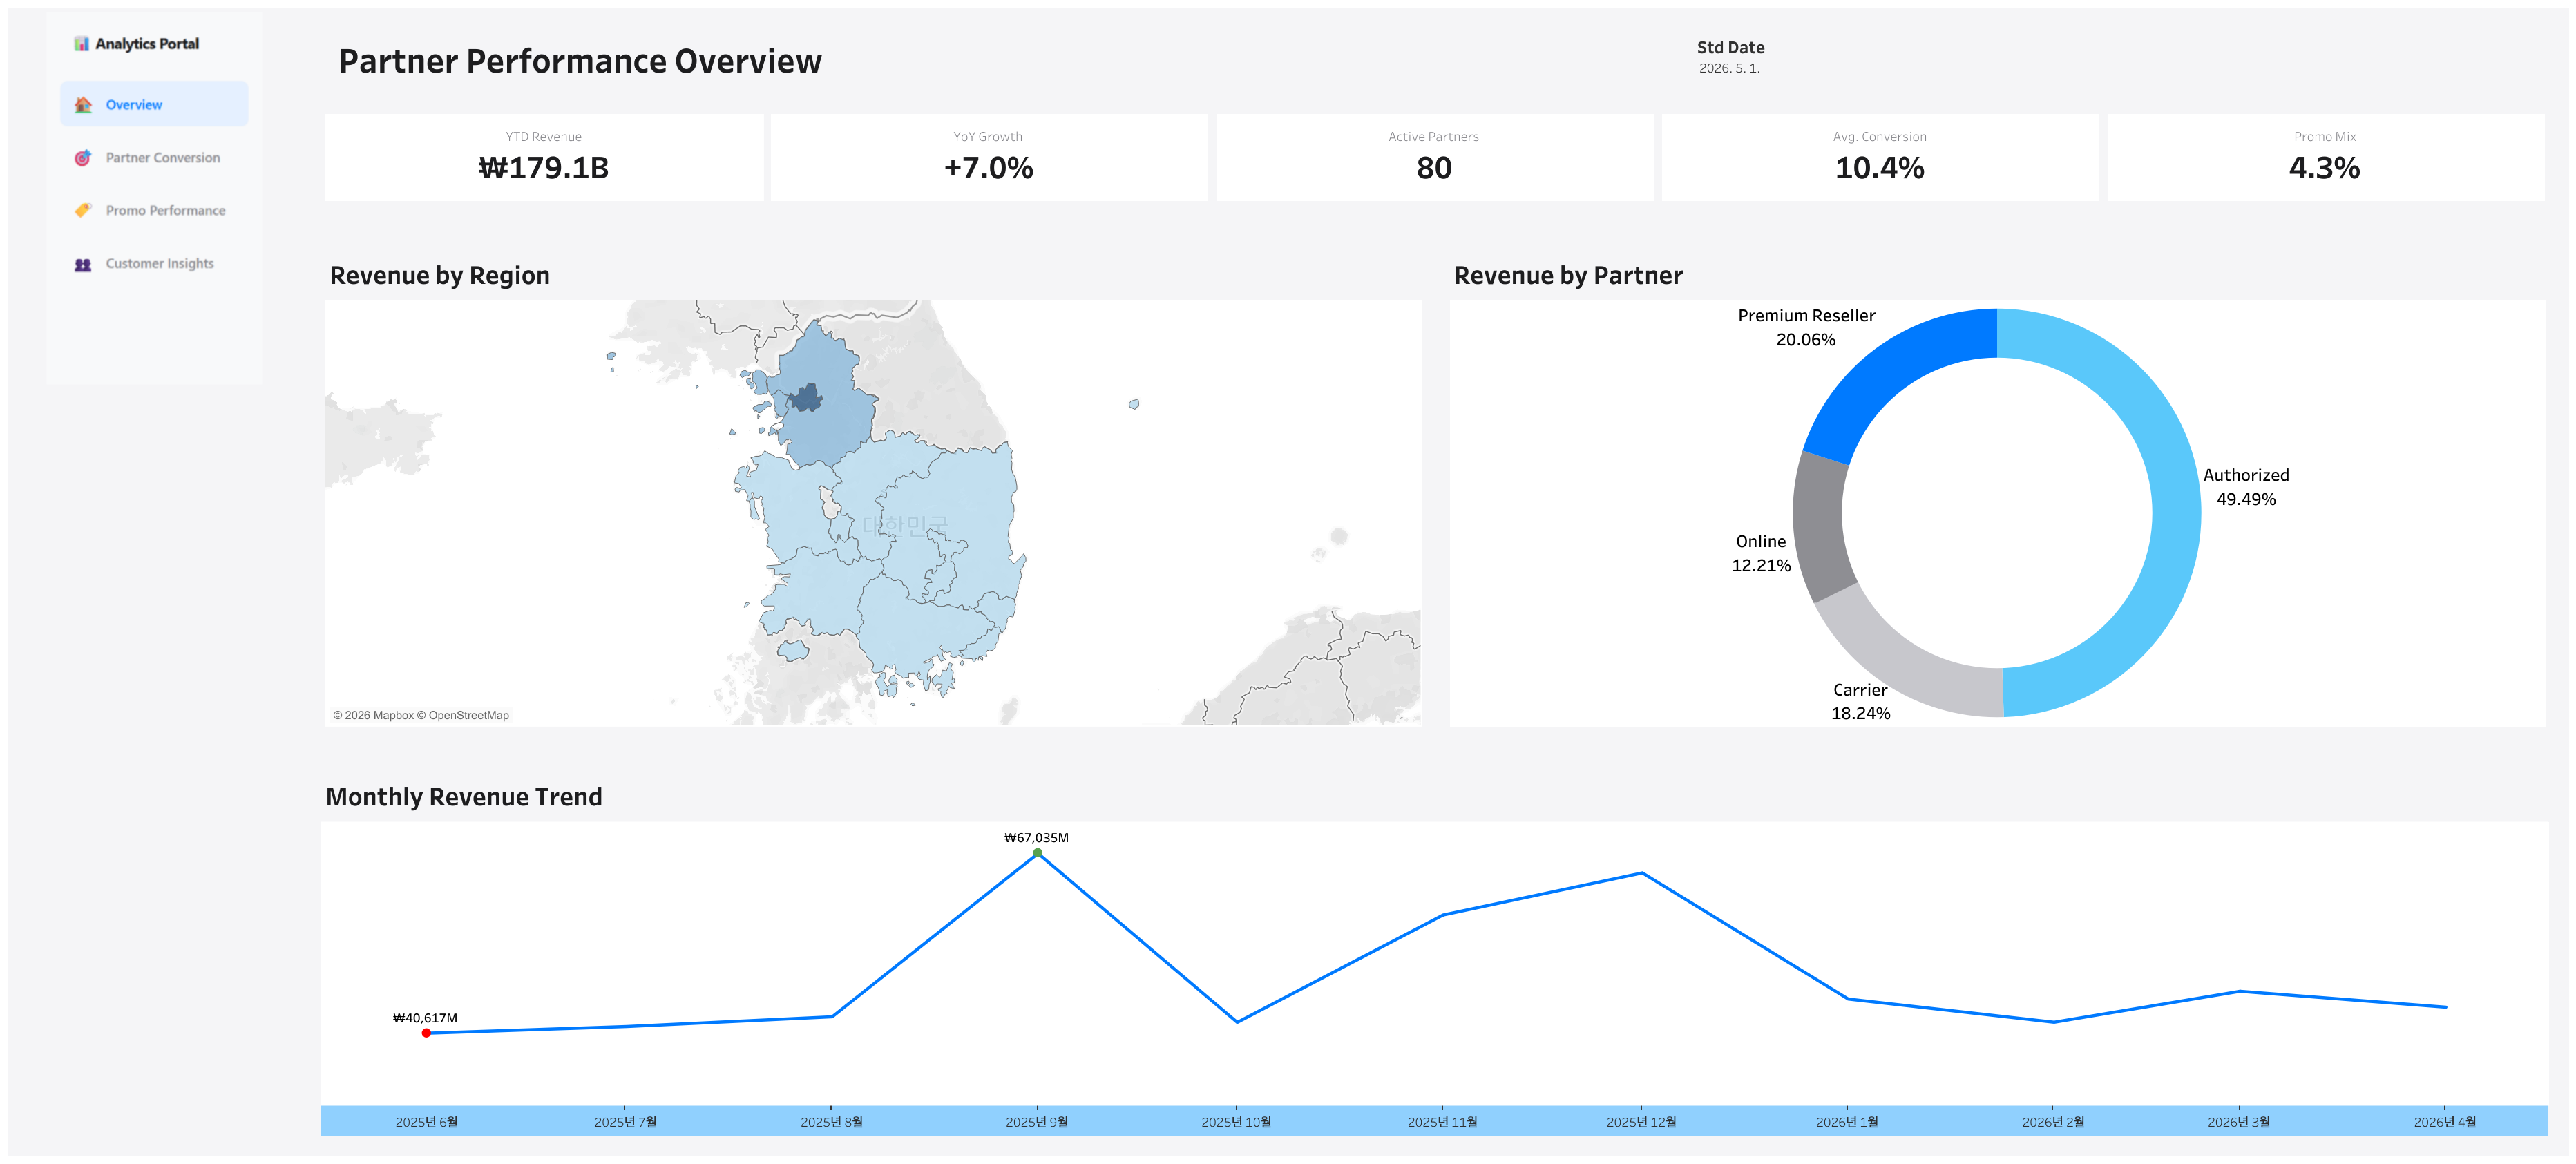

This screenshot's page, from the dashboard's own definition file:
{"tool":"tableau","page":{"name":"Overview","canvas":[1000,1000],"units":"permille","ordinal":1},"visuals":[{"type":"image","param":"Image/dash1.png","box":[2.4,4.2,113.5,328.7]},{"type":"text","box":[124.8,14.8,511.5,58.9]},{"type":"parameter","param":"[Parameters].[매개 변수 2]","box":[654.1,14.8,79.2,58.9]},{"type":"parameter","param":"[Parameters].[매개 변수 1]","box":[733.3,14.8,79.2,58.9]},{"type":"blank","box":[830.3,14.8,155.5,58.9]},{"type":"blank","box":[985.8,14.8,3,58.9]},{"type":"dashboard-object","box":[12.7,65.2,93.1,39.8]},{"type":"worksheet","title":"YTD Revenue","mark":"Automatic","box":[121.8,84.3,174.2,96]},{"type":"worksheet","title":"YoY Growth","mark":"Automatic","box":[296,84.3,174.2,96]},{"type":"worksheet","title":"Active Partners","mark":"Automatic","box":[470.1,84.3,173.9,96]},{"type":"worksheet","title":"Avg. Conversion","mark":"Automatic","box":[644,84.3,173.9,96]},{"type":"worksheet","title":"Promo Mix ","mark":"Automatic","box":[817.9,84.3,173.9,96]},{"type":"dashboard-object","box":[11.8,119.3,93.1,39.8]},{"type":"dashboard-object","box":[12.1,164.9,93.1,39.8]},{"type":"worksheet","title":"Revenue by Region","mark":"Multipolygon","box":[121.8,201.5,434.9,432.7]},{"type":"worksheet","title":"Revenue by Partner","mark":"Pie","rows":["Calculation_0753232117878795","Calculation_0753232117878795"],"box":[556.8,201.5,434.9,432.7]},{"type":"dashboard-object","box":[12.1,212.6,93.1,39.8]},{"type":"blank","box":[2.4,333,113.5,662.8]},{"type":"worksheet","title":"Monthly Revenue Trend","mark":"Line","rows":["net_revenue_krw","Calculation_0753232130572301"],"cols":["Calculation_0639983038312448"],"box":[115.9,644.8,881.7,351]}]}

Visuals, with their boxes on the dashboard's canvas, which has no fixed pixel size, in thousandths of its width and height (x1, y1, x2, y2). These are canvas units, not pixel positions in the 2576x1164 screenshot, which may show the page scaled, cropped or inside an application window:
image: bbox=[2, 4, 116, 333]
text: bbox=[125, 15, 636, 74]
parameter: bbox=[654, 15, 733, 74]
parameter: bbox=[733, 15, 812, 74]
blank: bbox=[830, 15, 986, 74]
blank: bbox=[986, 15, 989, 74]
dashboard-object: bbox=[13, 65, 106, 105]
"YTD Revenue" worksheet: bbox=[122, 84, 296, 180]
"YoY Growth" worksheet: bbox=[296, 84, 470, 180]
"Active Partners" worksheet: bbox=[470, 84, 644, 180]
"Avg. Conversion" worksheet: bbox=[644, 84, 818, 180]
"Promo Mix " worksheet: bbox=[818, 84, 992, 180]
dashboard-object: bbox=[12, 119, 105, 159]
dashboard-object: bbox=[12, 165, 105, 205]
"Revenue by Region" worksheet (Multipolygon marks): bbox=[122, 202, 557, 634]
"Revenue by Partner" worksheet (Pie marks): bbox=[557, 202, 992, 634]
dashboard-object: bbox=[12, 213, 105, 252]
blank: bbox=[2, 333, 116, 996]
"Monthly Revenue Trend" worksheet (Line marks): bbox=[116, 645, 998, 996]
